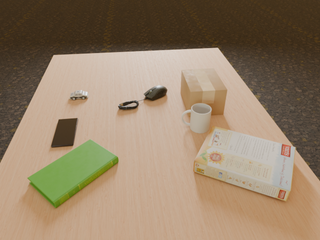book: (28, 139, 118, 208)
box: (194, 126, 295, 201), (181, 69, 227, 116)
cup: (182, 103, 212, 133)
mouse: (144, 86, 167, 100)
phone: (51, 118, 78, 147)
toy_car: (70, 90, 89, 100)
